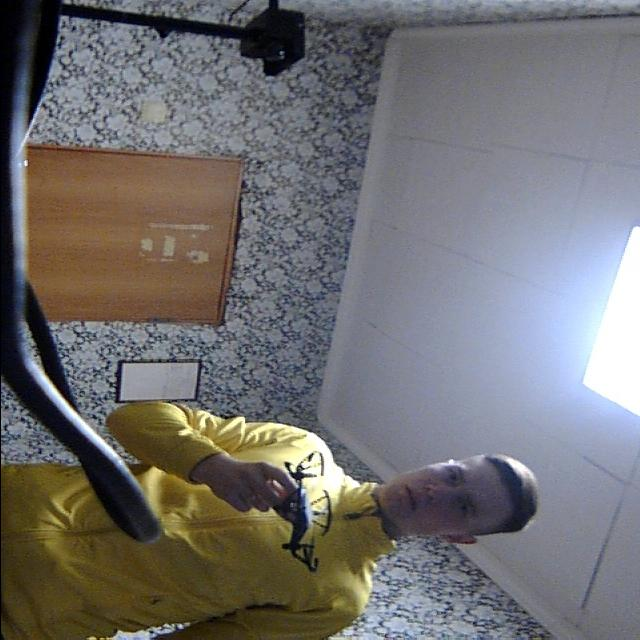drone: (260, 448, 352, 580)
